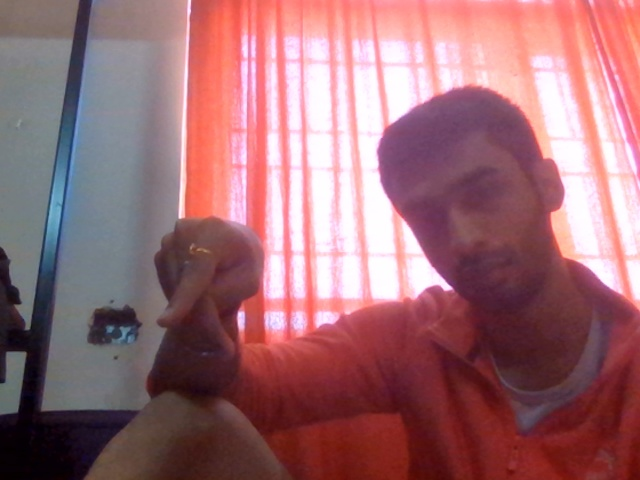P: (125, 201, 321, 381)
